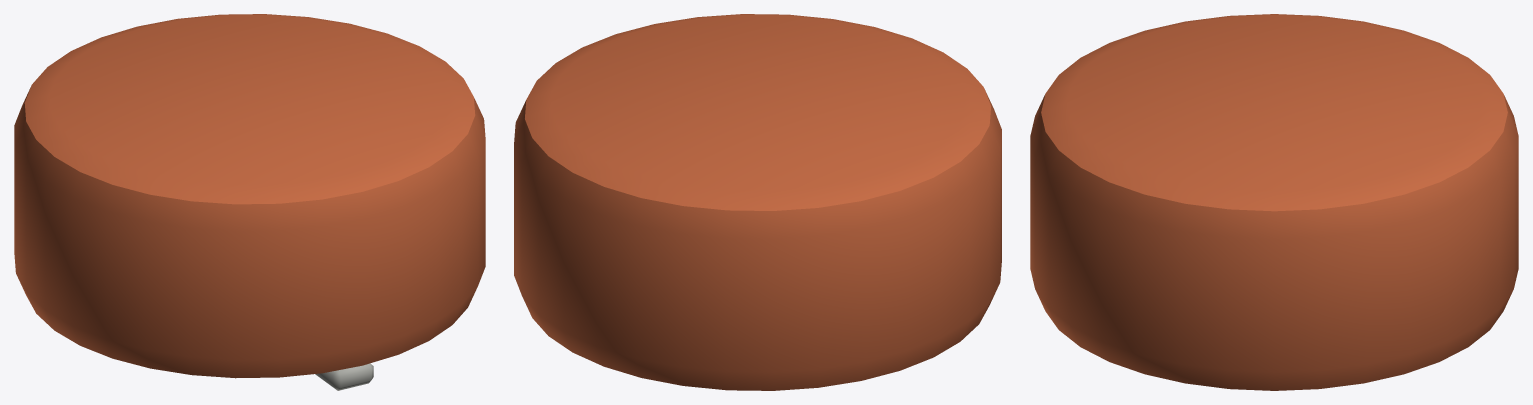
The model's file is welding_positioner_speed_knob.glb.
3 renders of one model, left to right at view 1: azimuth 30°, elevation 25°; view 2: azimuth 150°, elevation 25°; view 3: azimuth 270°, elevation 25°, orthographic. The views are drawn at different scales.
Visible parts, largest first — view 1: welding_positioner_speed_knob; view 2: welding_positioner_speed_knob; view 3: welding_positioner_speed_knob.
Part boxes in pixels (<box>): welding_positioner_speed_knob: <box>14,14,485,390</box>; welding_positioner_speed_knob: <box>514,14,1001,390</box>; welding_positioner_speed_knob: <box>1030,14,1518,390</box>.
Size of the model in its own units: 0.04 by 0.0198 by 0.04.
